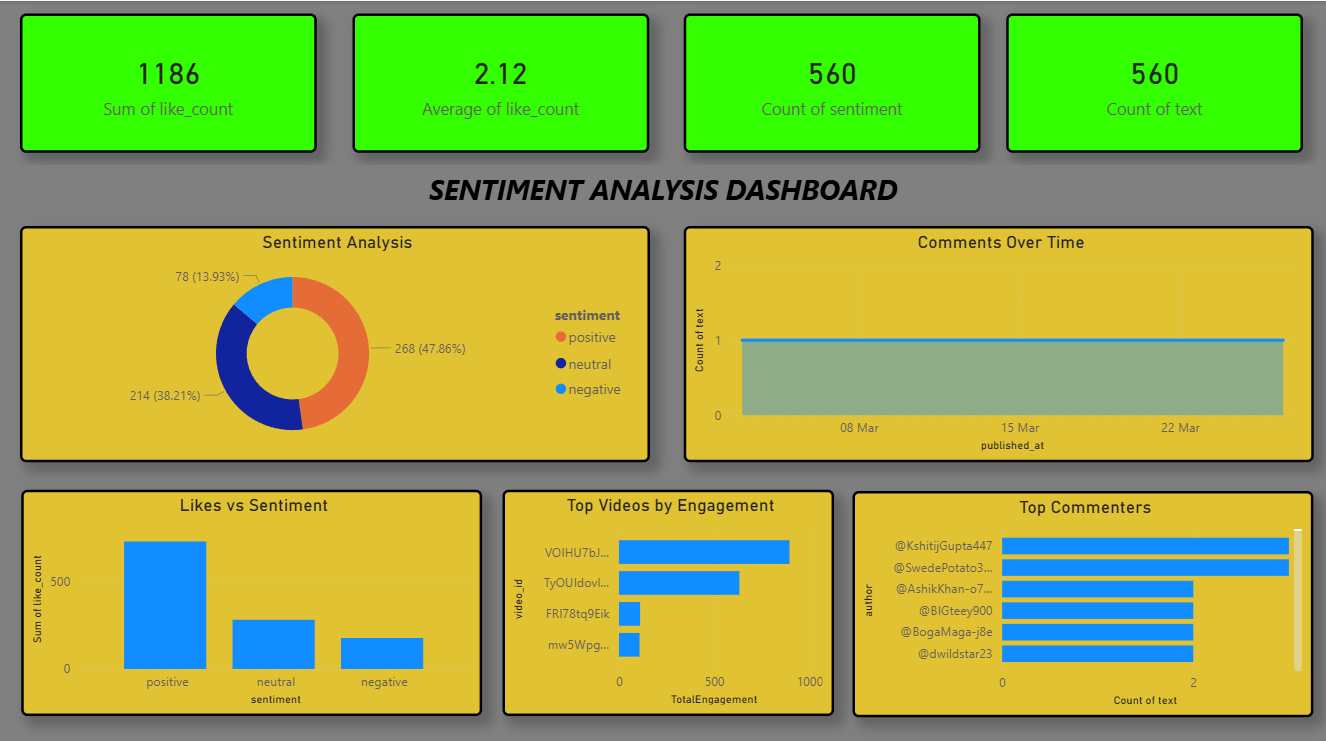

What the dashboard file says about the page in this screenshot:
{"tool":"powerbi","page":{"name":"Page 1","canvas":[1280,720],"ordinal":0},"visuals":[{"type":"card","fields":{"Values":["Sum(public youtube_comments.like_count)"]},"box":[19.2,12.3,286.8,134.5],"z":0},{"type":"card","fields":{"Values":["Avg(public youtube_comments.like_count)"]},"box":[340.3,12.3,286.8,134.5],"z":1},{"type":"card","fields":{"Values":["CountNonNull(public youtube_comments.sentiment)"]},"box":[660,12.3,286.8,134.5],"z":2},{"type":"card","fields":{"Values":["CountNonNull(public youtube_comments.text)"]},"box":[971.5,12.3,286.8,134.5],"z":3},{"type":"donutChart","title":"Sentiment Analysis","fields":{"Category":["public youtube_comments.sentiment"],"Y":["CountNonNull(public youtube_comments.sentiment)"]},"box":[19.2,216.8,607.9,227.8],"z":4},{"type":"areaChart","title":"Comments Over Time","fields":{"Category":["public youtube_comments.published_at"],"Y":["CountNonNull(public youtube_comments.text)"]},"box":[660,216.8,607.9,227.8],"z":5},{"type":"clusteredColumnChart","title":"Likes vs Sentiment","fields":{"Category":["public youtube_comments.sentiment"],"Y":["Sum(public youtube_comments.like_count)"]},"box":[20.6,472,444.6,218.2],"z":6},{"type":"barChart","title":"Top Videos by Engagement","fields":{"Y":["public youtube_comments.TotalEngagement"],"Category":["public youtube_comments.video_id"]},"box":[484.4,472,319.7,218.2],"z":7},{"type":"barChart","title":"Top Commenters","fields":{"Category":["public youtube_comments.author"],"Y":["CountNonNull(public youtube_comments.text)"]},"box":[823.3,473.4,444.6,218.2],"z":8},{"type":"textbox","box":[0,157.8,1280.3,46.7],"z":9}]}

Visuals, with their boxes in screenshot pixels (x1, y1, x2, y2), scaled from the page's 1280x720 canvas onto the 1326x741 screenshot:
card - Sum(public youtube_comments.like_count): 20 13 317 151
card - Avg(public youtube_comments.like_count): 353 13 650 151
card - CountNonNull(public youtube_comments.sentiment): 684 13 981 151
card - CountNonNull(public youtube_comments.text): 1006 13 1304 151
"Sentiment Analysis" donutChart: 20 223 650 458
"Comments Over Time" areaChart: 684 223 1313 458
"Likes vs Sentiment" clusteredColumnChart: 21 486 482 710
"Top Videos by Engagement" barChart: 502 486 833 710
"Top Commenters" barChart: 853 487 1313 712
textbox: 0 162 1325 210
